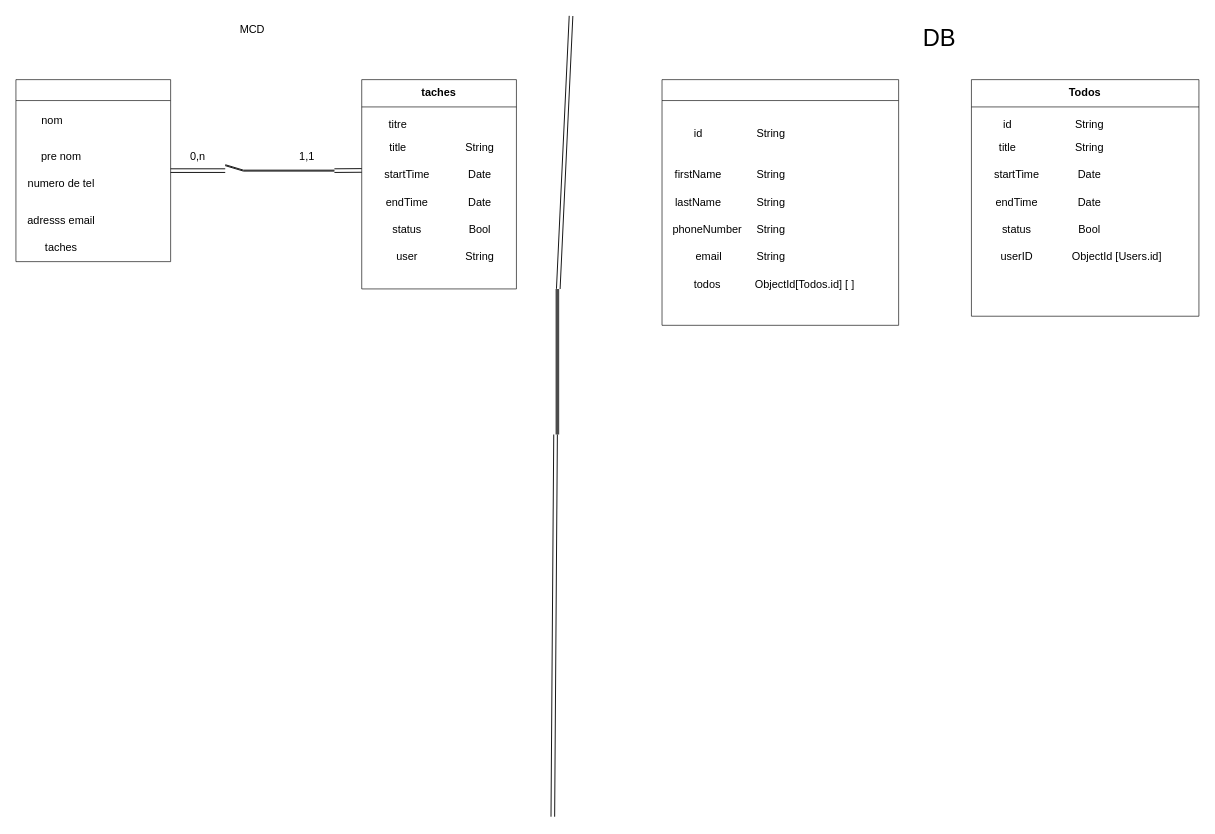
Image size: 1215x834. Some labels were removed from this diagram. The shapes that lost their labels are listed below. From the top down, each one's box as (x1, y1, x2, y2) in pixels, then its label:
(15, 79, 171, 262): utilisateurs
(661, 79, 899, 325): Users
